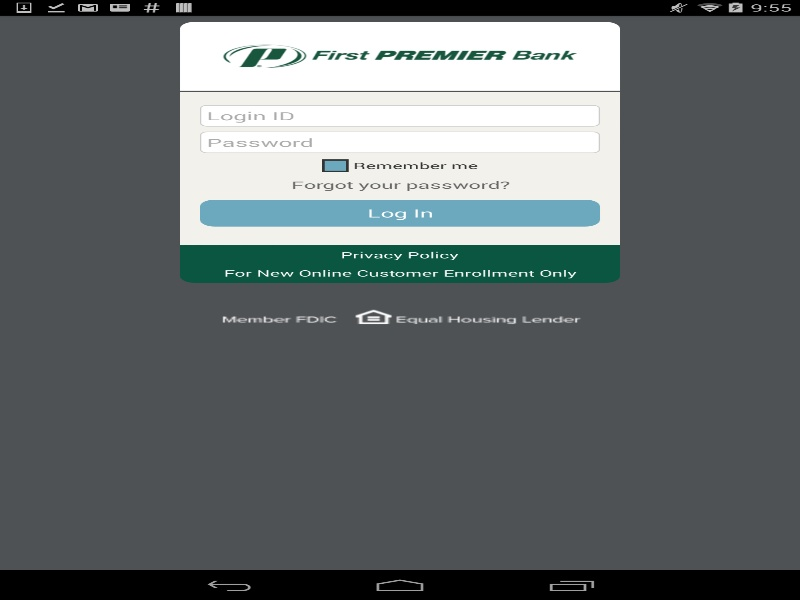Button: (200, 199, 600, 226)
Input: (200, 131, 600, 153), (200, 105, 600, 126)
